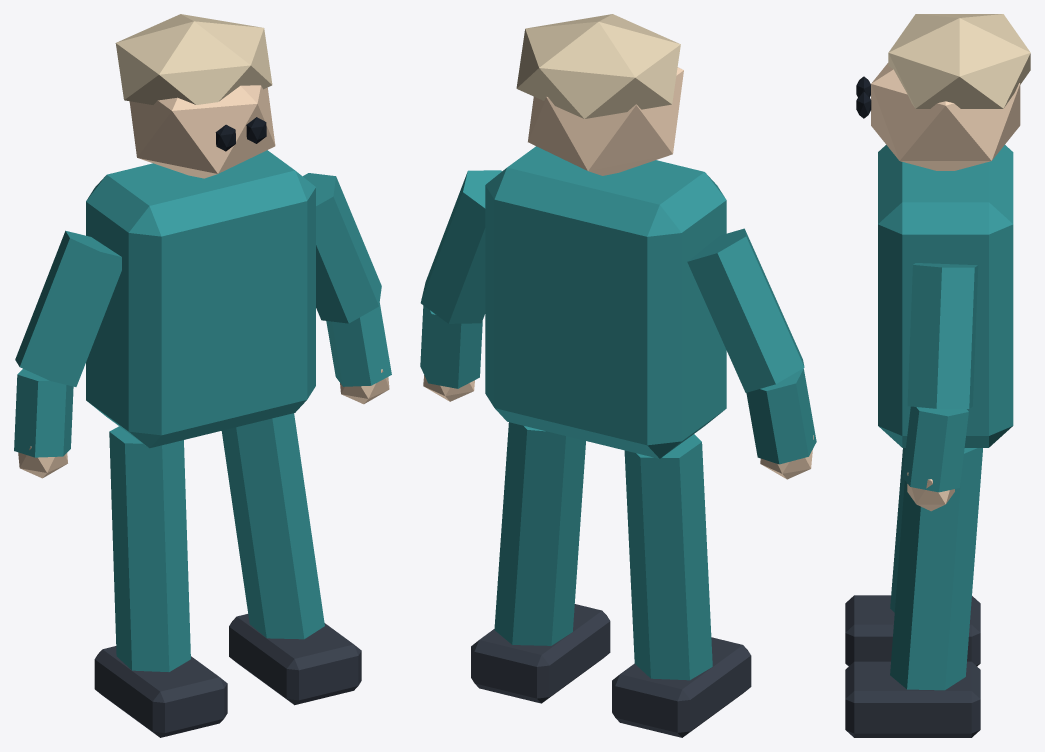
The model's file is npcs_025_seed78877.glb.
3 renders of one model, left to right at view 1: azimuth 30°, elevation 25°; view 2: azimuth 150°, elevation 25°; view 3: azimuth 270°, elevation 25°, orthographic. The views are drawn at different scales.
Parts seen in each view (by area): view 1: npcs_025_seed78877; view 2: npcs_025_seed78877; view 3: npcs_025_seed78877.
Boxes of the visible parts, x1,y1,x2,y2 form: npcs_025_seed78877: (14,14,391,737); npcs_025_seed78877: (420,14,816,737); npcs_025_seed78877: (845,14,1030,737).
Size of the model in its own units: 1.19 by 2.03 by 0.5114.
